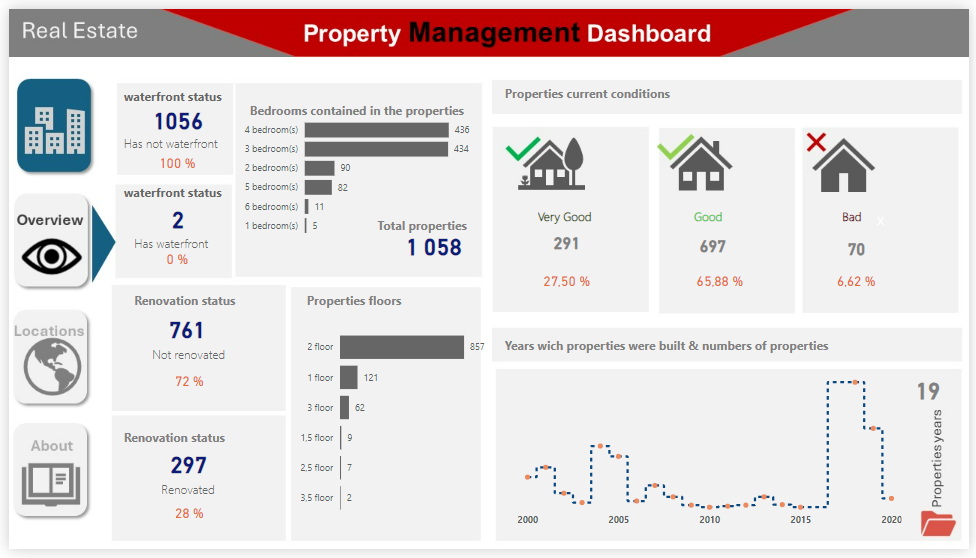

Layout of this report page (visuals, bound fields, positions):
{"tool":"powerbi","page":{"name":"Page 1","canvas":[1280,720],"ordinal":0},"visuals":[{"type":"shape","box":[1016.1,146.8,264,515.4],"z":0,"group":"g1"},{"type":"barChart","fields":{"Category":["Dim bedrooms.Bedrooms"],"Y":["Measures table.total properties"]},"box":[302.2,127.2,321.3,186.1],"z":0},{"type":"textbox","box":[1231.4,153.2,42.9,50.9],"z":1000,"group":"g1"},{"type":"card","fields":{"Values":["Measures table.waterfront yes"]},"box":[186.1,260.9,77.9,38.2],"z":1000},{"type":"slicer","fields":{"Values":["Dim Location.Property location"]},"box":[1068.7,216.4,153.4,148.5],"z":2000,"group":"g1"},{"type":"textbox","box":[316.5,117.7,338.8,31.8],"z":2000},{"type":"slicer","fields":{"Values":["Fact table.yr_built"]},"box":[1068.7,384.6,155.1,95.7],"z":3000,"group":"g1"},{"type":"textbox","box":[392.9,372.2,154.3,33.4],"z":3000},{"type":"textbox","box":[655.3,95.4,251.3,46.1],"z":4000},{"type":"slicer","fields":{"Values":["Fact table.yr_renovated"]},"box":[1070.4,508.4,155.1,95.7],"z":4000,"group":"g1"},{"type":"textbox","box":[147.9,227.5,154.3,33.4],"z":5000},{"type":"textbox","box":[147.9,100.2,154.3,33.4],"z":6000},{"type":"textbox","box":[147.9,162.2,154.3,33.4],"z":7000},{"type":"textbox","box":[162.2,295.9,154.3,33.4],"z":8000},{"type":"textbox","box":[162.2,372.2,154.3,33.4],"z":9000},{"type":"textbox","box":[147.9,553.5,154.3,33.4],"z":10000},{"type":"textbox","box":[186.1,443.8,154.3,33.4],"z":11000},{"type":"textbox","box":[198.8,623.5,154.3,33.4],"z":12000},{"type":"textbox","box":[655.3,431.1,475.6,46.1],"z":13000},{"type":"lineChart","fields":{"Y":["Measures table.total properties"],"Category":["Fact table.yr_built"]},"box":[671.2,480.4,523.3,219.5],"z":14000},{"type":"textbox","box":[699.9,259.3,95.4,35],"z":15000},{"type":"textbox","box":[903.5,259.3,65.2,35],"z":16000},{"type":"textbox","box":[1105.5,259.3,46.1,35],"z":17000},{"type":"card","fields":{"Values":["Measures table.bad"]},"box":[1076.8,294.9,106.6,50.9],"z":18000},{"type":"card","fields":{"Values":["Measures table.good"]},"box":[898.7,285.3,79.5,60.4],"z":19000},{"type":"card","fields":{"Values":["Measures table.very good"]},"box":[701.5,290.1,82.7,42.9],"z":20000},{"type":"card","fields":{"Values":["Measures table.% very good"]},"box":[693.5,335.6,98.6,54.1],"z":21000},{"type":"card","fields":{"Values":["Measures table.% good"]},"box":[898.7,335.6,98.6,54.1],"z":22000},{"type":"card","fields":{"Values":["Measures table.% bad"]},"box":[1080,335.6,98.6,54.1],"z":23000},{"type":"card","fields":{"Values":["Measures table.waterfront no"]},"box":[186.1,127.2,77.9,38.2],"z":24000},{"type":"card","fields":{"Values":["Measures table.not renovated"]},"box":[198.8,405.6,77.9,38.2],"z":25000},{"type":"card","fields":{"Values":["Measures table.renovated"]},"box":[200.4,586.9,77.9,38.2],"z":26000},{"type":"card","fields":{"Values":["Measures table.total properties"]},"box":[507.4,294.3,116.1,41.4],"z":27000},{"type":"barChart","fields":{"Y":["Measures table.total properties"],"Category":["Dim floors.Floors"]},"box":[378.6,405.6,260.9,283.1],"z":28000},{"type":"textbox","box":[486.7,272,163.8,46.1],"z":29000},{"type":"card","fields":{"Values":["Measures table.% waterfront no"]},"box":[186.1,189.3,76.3,31.8],"z":30000},{"type":"card","fields":{"Values":["Measures table.% waterfront yes"]},"box":[186.1,318.1,76.3,31.8],"z":31000},{"type":"card","fields":{"Values":["Measures table.% not renovated"]},"box":[202,480.4,76.3,31.8],"z":32000},{"type":"card","fields":{"Values":["Measures table.% renovated"]},"box":[202,656.9,76.3,31.8],"z":33000},{"type":"card","fields":{"Values":["Dim Location.properties years"]},"box":[1193,482,65.2,49.3],"z":34000},{"type":"actionButton","box":[1213.6,672.8,44.5,35],"z":35000},{"type":"actionButton","box":[1210.7,161.8,69.3,37.9],"z":35002,"group":"g1"},{"type":"group","id":"g1","title":"Group 1","box":[1016.1,146.8,264,515.4],"z":36000}]}

Visuals, with their boxes in screenshot pixels (x1, y1, x2, y2), scaled from the page's 1280x720 canvas onto the 976x558 screenshot:
shape: (775,114,975,513)
barChart - Dim bedrooms.Bedrooms x Measures table.total properties: (230,99,475,243)
textbox: (939,119,972,158)
card - Measures table.waterfront yes: (142,202,201,232)
slicer - Dim Location.Property location: (815,168,932,283)
textbox: (241,91,500,116)
slicer - Fact table.yr_built: (815,298,933,372)
textbox: (300,288,417,314)
textbox: (500,74,691,110)
slicer - Fact table.yr_renovated: (816,394,934,468)
textbox: (113,176,230,202)
textbox: (113,78,230,104)
textbox: (113,126,230,152)
textbox: (124,229,241,255)
textbox: (124,288,241,314)
textbox: (113,429,230,455)
textbox: (142,344,260,370)
textbox: (152,483,269,509)
textbox: (500,334,862,370)
lineChart - Measures table.total properties x Fact table.yr_built: (512,372,911,542)
textbox: (534,201,606,228)
textbox: (689,201,739,228)
textbox: (843,201,878,228)
card - Measures table.bad: (821,229,902,268)
card - Measures table.good: (685,221,746,268)
card - Measures table.very good: (535,225,598,258)
card - Measures table.% very good: (529,260,604,302)
card - Measures table.% good: (685,260,760,302)
card - Measures table.% bad: (824,260,899,302)
card - Measures table.waterfront no: (142,99,201,128)
card - Measures table.not renovated: (152,314,211,344)
card - Measures table.renovated: (153,455,212,484)
card - Measures table.total properties: (387,228,475,260)
barChart - Measures table.total properties x Dim floors.Floors: (289,314,488,534)
textbox: (371,211,496,247)
card - Measures table.% waterfront no: (142,147,200,171)
card - Measures table.% waterfront yes: (142,247,200,271)
card - Measures table.% not renovated: (154,372,212,397)
card - Measures table.% renovated: (154,509,212,534)
card - Dim Location.properties years: (910,374,959,412)
actionButton: (925,521,959,549)
actionButton: (923,125,975,155)
"Group 1" group: (775,114,975,513)
